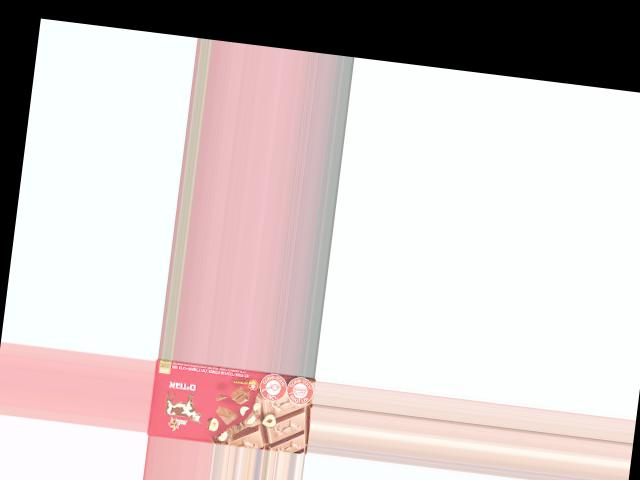chocolate: (146, 360, 314, 454)
